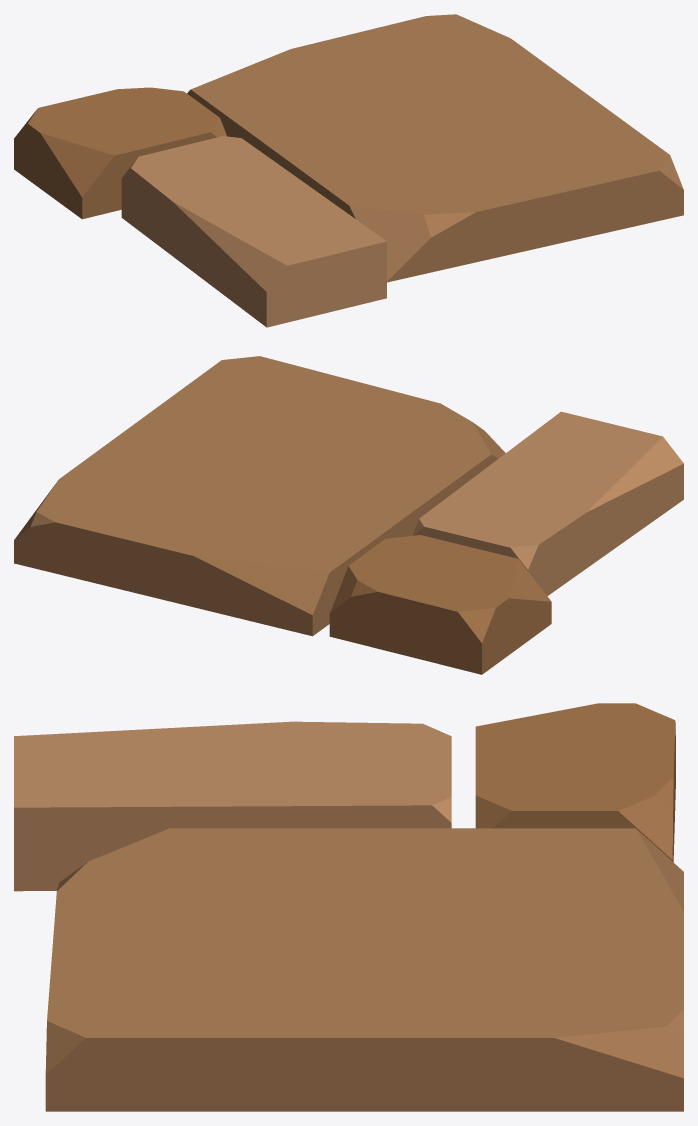
File: Tile_04.fbx
3 renders of one model, top to bottom at view 1: azimuth 30°, elevation 25°; view 2: azimuth 150°, elevation 25°; view 3: azimuth 270°, elevation 25°, orthographic. The views are drawn at different scales.
Visible parts, largest first — view 1: Tile_04; view 2: Tile_04; view 3: Tile_04.
Part boxes in pixels (x1,y1,x2,y2): Tile_04: [14, 14, 683, 327]; Tile_04: [14, 356, 683, 674]; Tile_04: [14, 703, 683, 1111].
Size of the model in its own units: 56.92 by 6.79 by 49.36.
